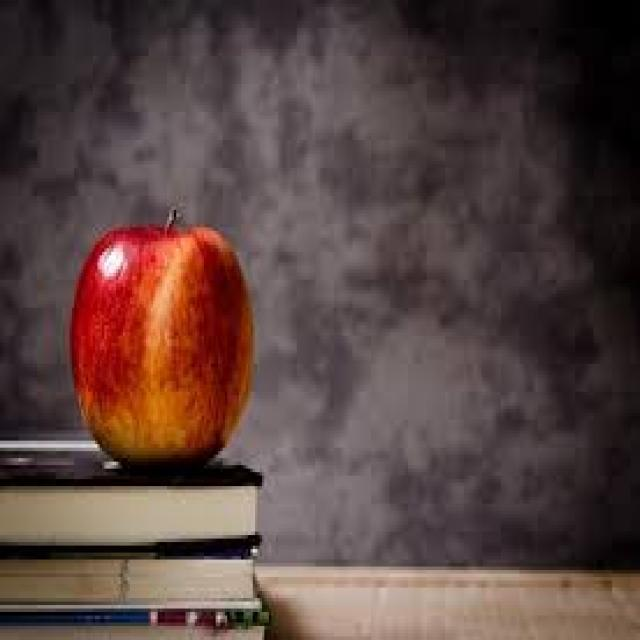Fresh Apple: (69, 226, 258, 472)
